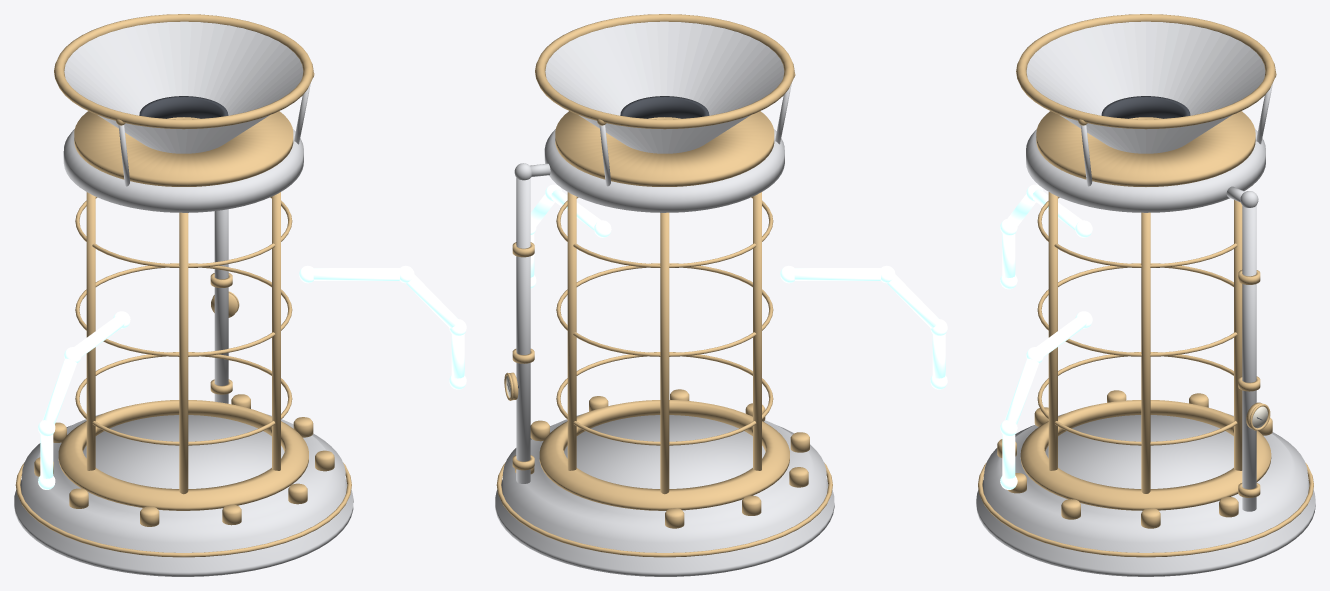
The model's file is reactor.glb.
The picture shows the model from 3 angles, left to right: view 1: azimuth 30°, elevation 25°; view 2: azimuth 150°, elevation 25°; view 3: azimuth 270°, elevation 25°; orthographic projection.
Visible parts, largest first — view 1: reactor; view 2: reactor; view 3: reactor.
Boxes of the visible parts, x1,y1,x2,y2 form: reactor: [14, 14, 466, 576]; reactor: [495, 14, 947, 576]; reactor: [976, 14, 1315, 576].
Bounding box in the file's own units: 3.77 × 3.7 × 2.6.
